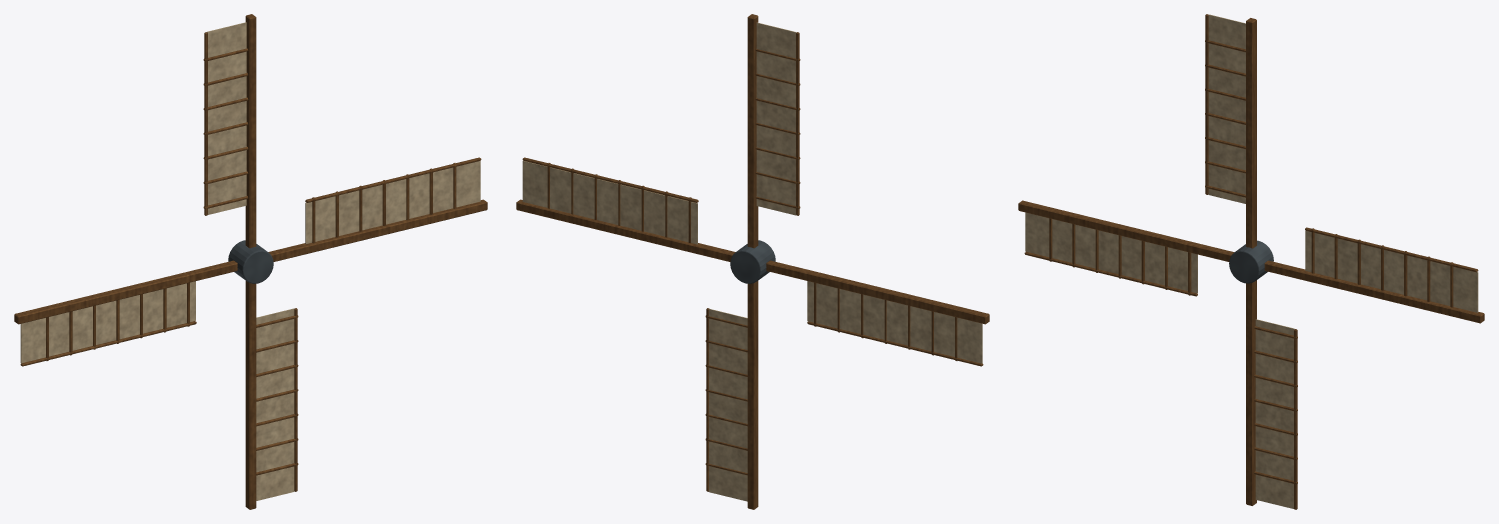
Rendered from windmill_blades.glb.
The picture shows the model from 3 angles, left to right: view 1: azimuth 30°, elevation 25°; view 2: azimuth 150°, elevation 25°; view 3: azimuth 330°, elevation 25°; orthographic projection.
Visible parts, largest first — view 1: WindmillBlades_Mesh; view 2: WindmillBlades_Mesh; view 3: WindmillBlades_Mesh.
Boxes of the visible parts, <box> form: WindmillBlades_Mesh: <box>14,14,487,509</box>; WindmillBlades_Mesh: <box>516,14,989,509</box>; WindmillBlades_Mesh: <box>1018,14,1484,509</box>.
Bounding box in the file's own units: 9 × 9 × 0.5.
Materials: 1 (1 with a texture image).
